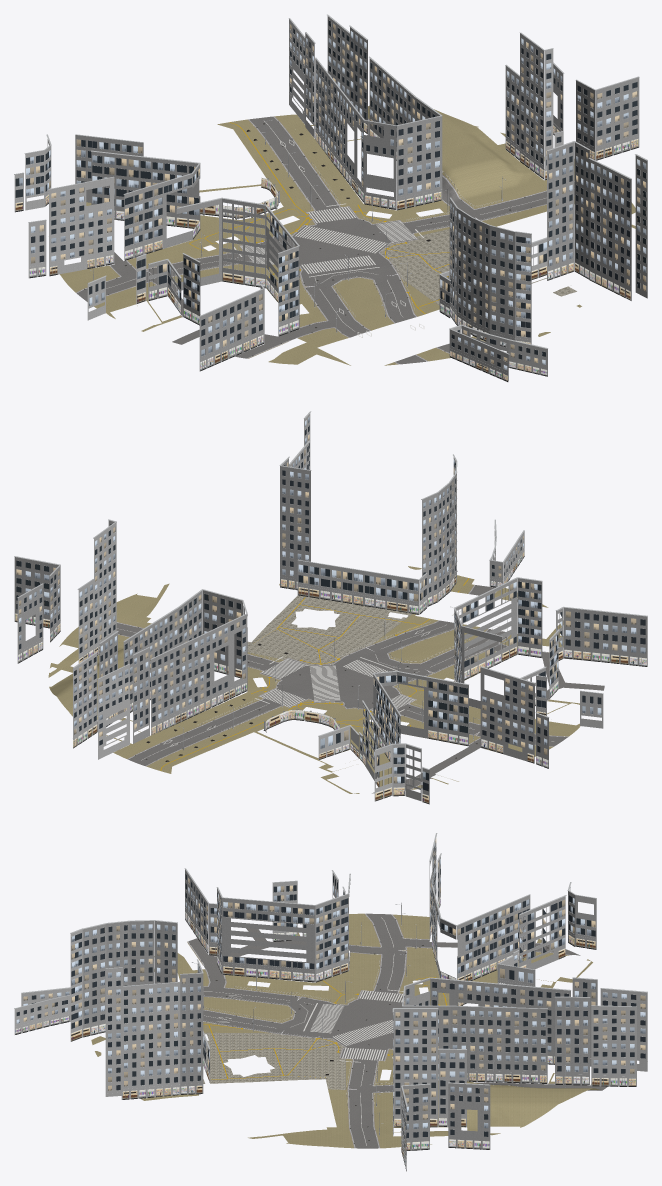
File: scramble.glb
The picture shows the model from 3 angles, top to bottom: view 1: azimuth 30°, elevation 25°; view 2: azimuth 150°, elevation 25°; view 3: azimuth 270°, elevation 25°; orthographic projection. The views are drawn at different scales.
Parts seen in each view (by area): view 1: scramble_wall_grey_c1_-3, scramble_wall_grey_c1_2, scramble_wall_cream_c2_0, scramble_ground_paver_c2_0, scramble_wall_white_c-4_0, scramble_wall_grey_c-2_-1, scramble_wall_grey_c1_0, scramble_win_glass_c1_-3, scramble_wall_grey_c0_-4, scramble_ground_asphalt_c-1_-1, scramble_wall_white_c1_3, scramble_win_glass_c0_-4 (+88 smaller); view 2: scramble_wall_grey_c1_2, scramble_wall_white_c1_3, scramble_wall_grey_c0_1, scramble_wall_grey_c-2_-2, scramble_wall_grey_c1_-3, scramble_ground_sett_c0_-2, scramble_wall_cream_c2_0, scramble_wall_white_c-4_0, scramble_wall_grey_c-1_-3, scramble_wall_grey_c1_0, scramble_ground_asphalt_c-1_-1, scramble_wall_grey_c-3_-3 (+52 smaller); view 3: scramble_wall_grey_c1_2, scramble_wall_grey_c1_1, scramble_wall_white_c1_3, scramble_wall_cream_c2_0, scramble_wall_grey_c-2_-2, scramble_wall_grey_c-2_-1, scramble_wall_white_c2_-4, scramble_ground_asphalt_c-1_-1, scramble_win_glass_c1_2, scramble_wall_white_c2_-3, scramble_wall_grey_c1_-3, scramble_ground_sett_c0_-2 (+68 smaller).
Part boxes in pixels (x1=…): scramble_wall_grey_c1_-3: x1=547, y1=142, x2=589, y2=280; scramble_wall_grey_c1_2: x1=305, y1=27, x2=382, y2=151; scramble_wall_cream_c2_0: x1=516, y1=33, x2=551, y2=180; scramble_ground_paver_c2_0: x1=451, y1=153, x2=546, y2=205; scramble_wall_white_c-4_0: x1=49, y1=181, x2=94, y2=276; scramble_wall_grey_c-2_-1: x1=211, y1=198, x2=276, y2=298; scramble_wall_grey_c1_0: x1=397, y1=101, x2=442, y2=208; scramble_win_glass_c1_-3: x1=539, y1=146, x2=605, y2=274; scramble_wall_grey_c0_-4: x1=484, y1=224, x2=514, y2=347; scramble_ground_asphalt_c-1_-1: x1=275, y1=242, x2=388, y2=289; scramble_wall_white_c1_3: x1=289, y1=16, x2=346, y2=124; scramble_win_glass_c0_-4: x1=485, y1=228, x2=530, y2=337; scramble_wall_grey_c1_2: x1=99, y1=632, x2=172, y2=743; scramble_wall_white_c1_3: x1=73, y1=655, x2=129, y2=759; scramble_wall_grey_c0_1: x1=162, y1=618, x2=247, y2=720; scramble_wall_grey_c-2_-2: x1=471, y1=578, x2=539, y2=673; scramble_wall_grey_c1_-3: x1=280, y1=458, x2=310, y2=589; scramble_ground_sett_c0_-2: x1=299, y1=606, x2=401, y2=649; scramble_wall_cream_c2_0: x1=90, y1=521, x2=116, y2=654; scramble_wall_white_c-4_0: x1=496, y1=672, x2=534, y2=763; scramble_wall_grey_c-1_-3: x1=422, y1=486, x2=449, y2=606; scramble_wall_grey_c1_0: x1=182, y1=590, x2=241, y2=676; scramble_ground_asphalt_c-1_-1: x1=327, y1=652, x2=432, y2=696; scramble_wall_grey_c-3_-3: x1=562, y1=607, x2=617, y2=662; scramble_wall_grey_c1_2: x1=520, y1=978, x2=597, y2=1085; scramble_wall_grey_c1_1: x1=443, y1=1006, x2=547, y2=1082; scramble_wall_white_c1_3: x1=591, y1=988, x2=647, y2=1086; scramble_wall_cream_c2_0: x1=392, y1=1009, x2=445, y2=1127; scramble_wall_grey_c-2_-2: x1=217, y1=889, x2=314, y2=979; scramble_wall_grey_c-2_-1: x1=286, y1=894, x2=349, y2=982; scramble_wall_white_c2_-4: x1=105, y1=968, x2=135, y2=1099; scramble_ground_asphalt_c-1_-1: x1=289, y1=999, x2=366, y2=1032; scramble_win_glass_c1_2: x1=523, y1=981, x2=598, y2=1072; scramble_wall_white_c2_-3: x1=123, y1=984, x2=179, y2=1098; scramble_wall_grey_c1_-3: x1=180, y1=963, x2=203, y2=1094; scramble_ground_sett_c0_-2: x1=212, y1=1032, x2=289, y2=1064.
Bounding box in the file's own units: 229 × 54.94 × 230.
19 materials, 14 textured.
